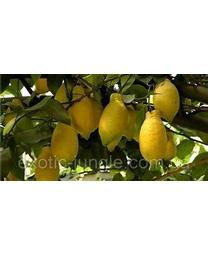lemon: (138, 110, 167, 162), (99, 91, 127, 141), (52, 121, 79, 163), (155, 80, 180, 120)
